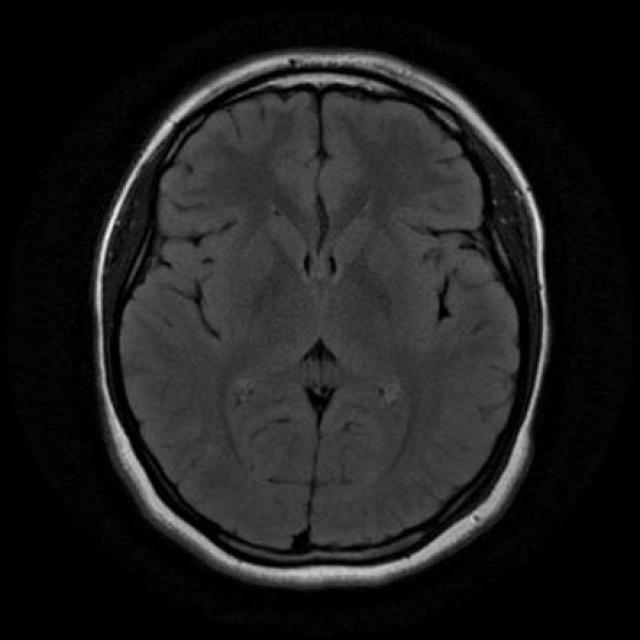notumor: (93, 49, 550, 594)
